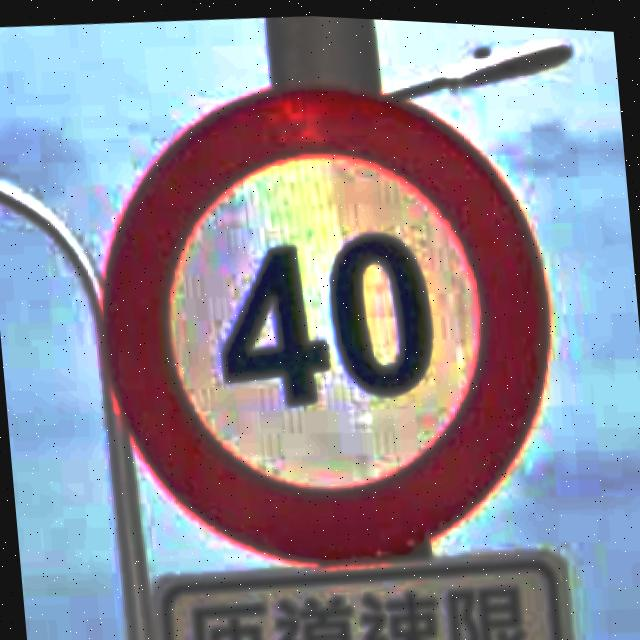max40: (78, 47, 570, 588)
